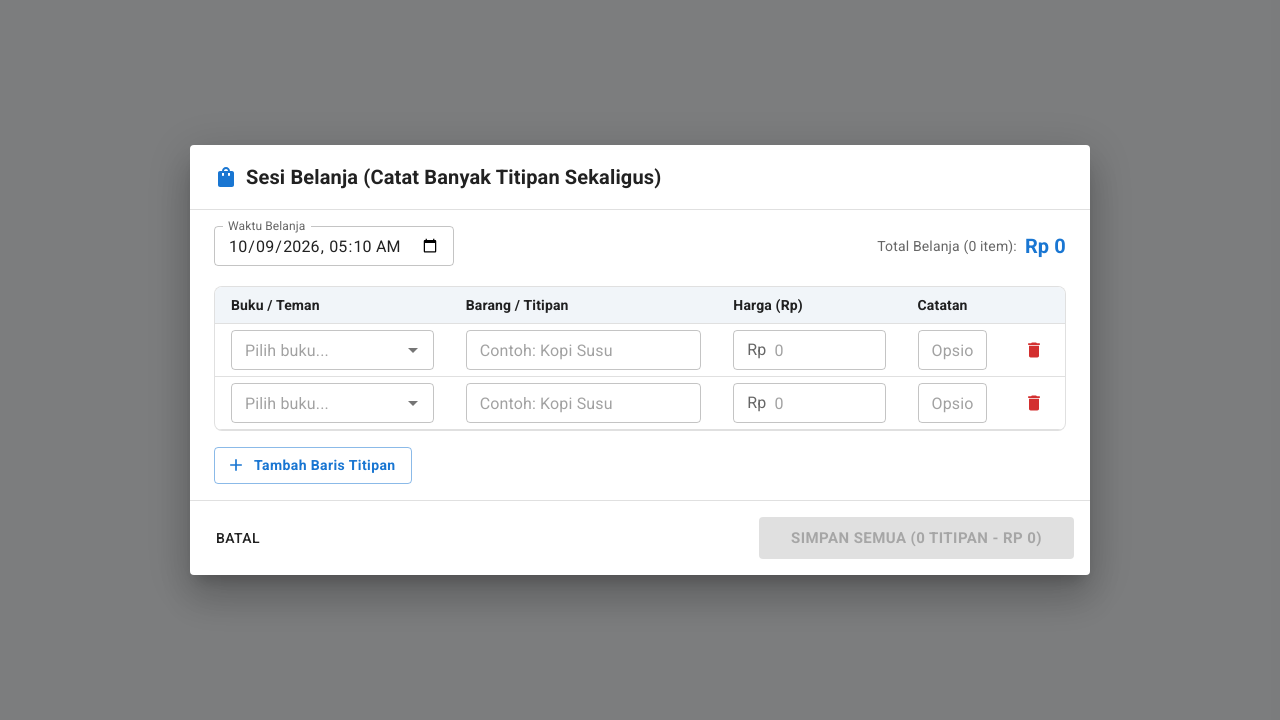
Test: Sesi Belanja (F1 Multi-row Batch Entry) › allows user to manually override amount after selecting an item suggestion
Select wallet
Type "Rendy" into the dropdown named "Buku baris 1" at (316, 350), box [237,336,395,364]
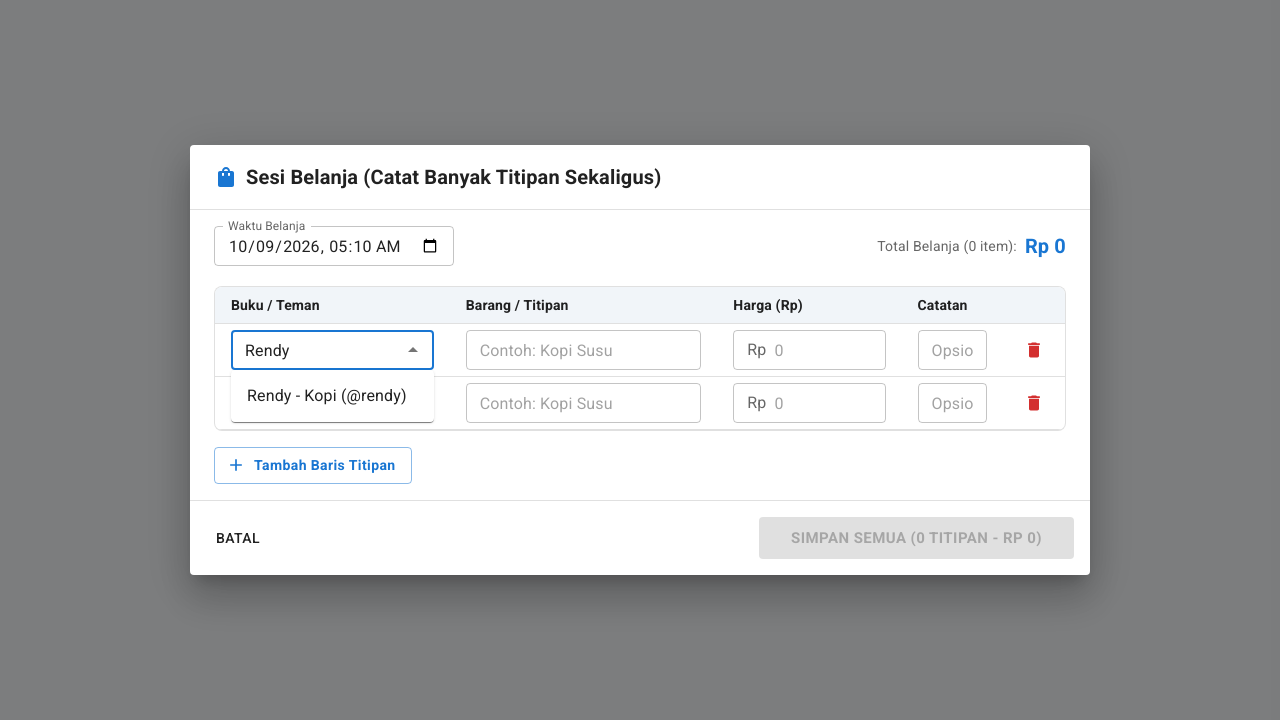
Press ArrowDown in the dropdown named "Buku baris 1", box [237,336,395,364]
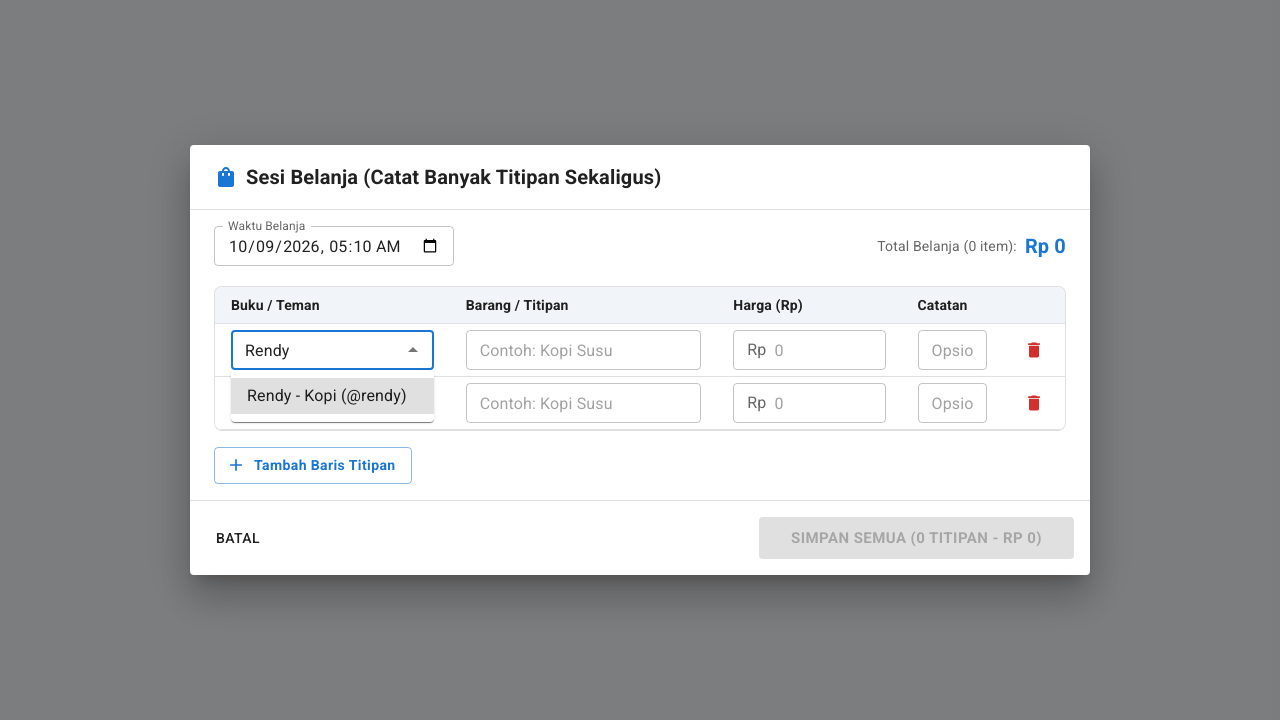
Press Enter in the dropdown named "Buku baris 1", box [237,336,395,364]
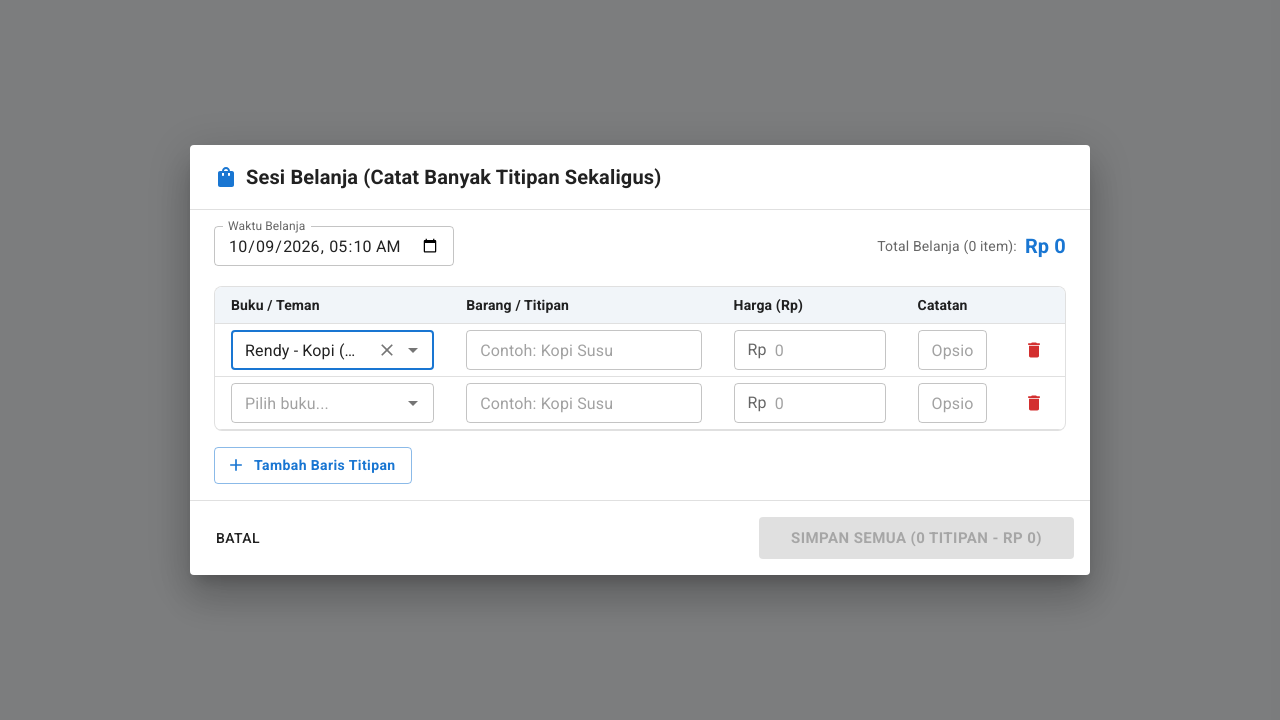
Select suggestion
Focus the dropdown named "Barang baris 1" at (567, 350), box [472,336,663,364]
Press ArrowDown in the dropdown named "Barang baris 1", box [472,336,663,364]
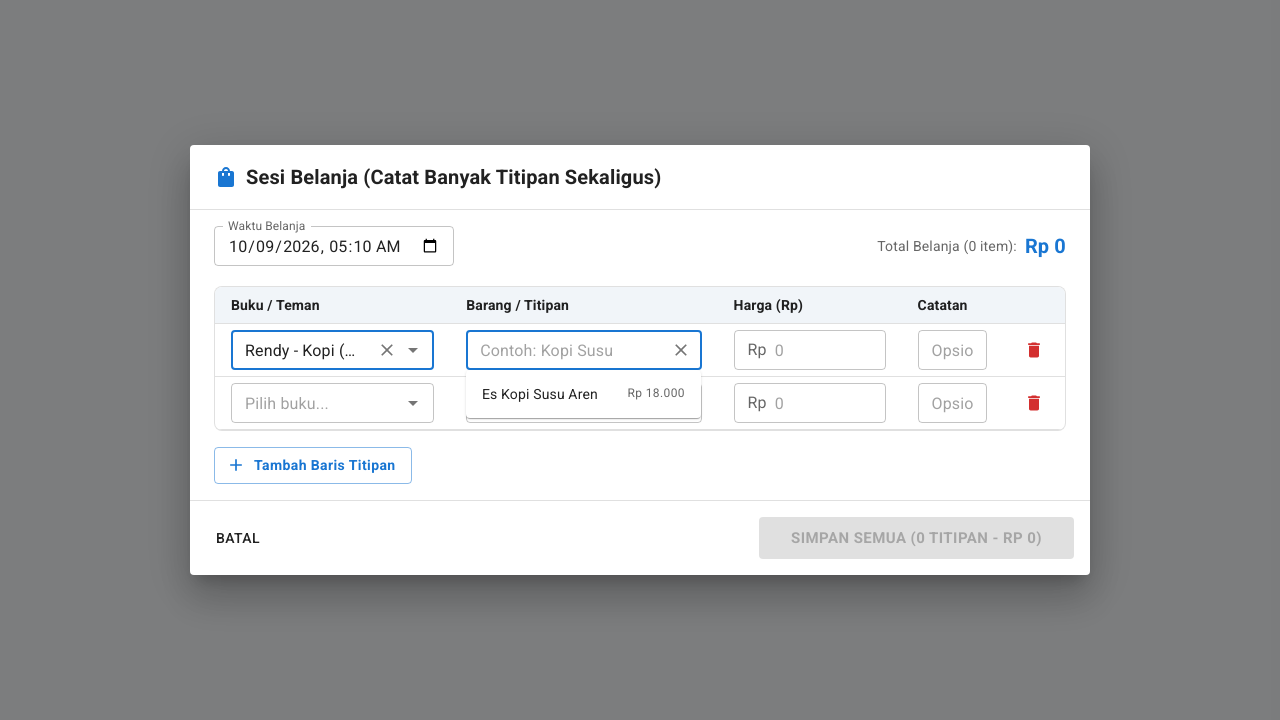
Click the text "Es Kopi Susu Aren" at (540, 394), box [482,384,598,404]
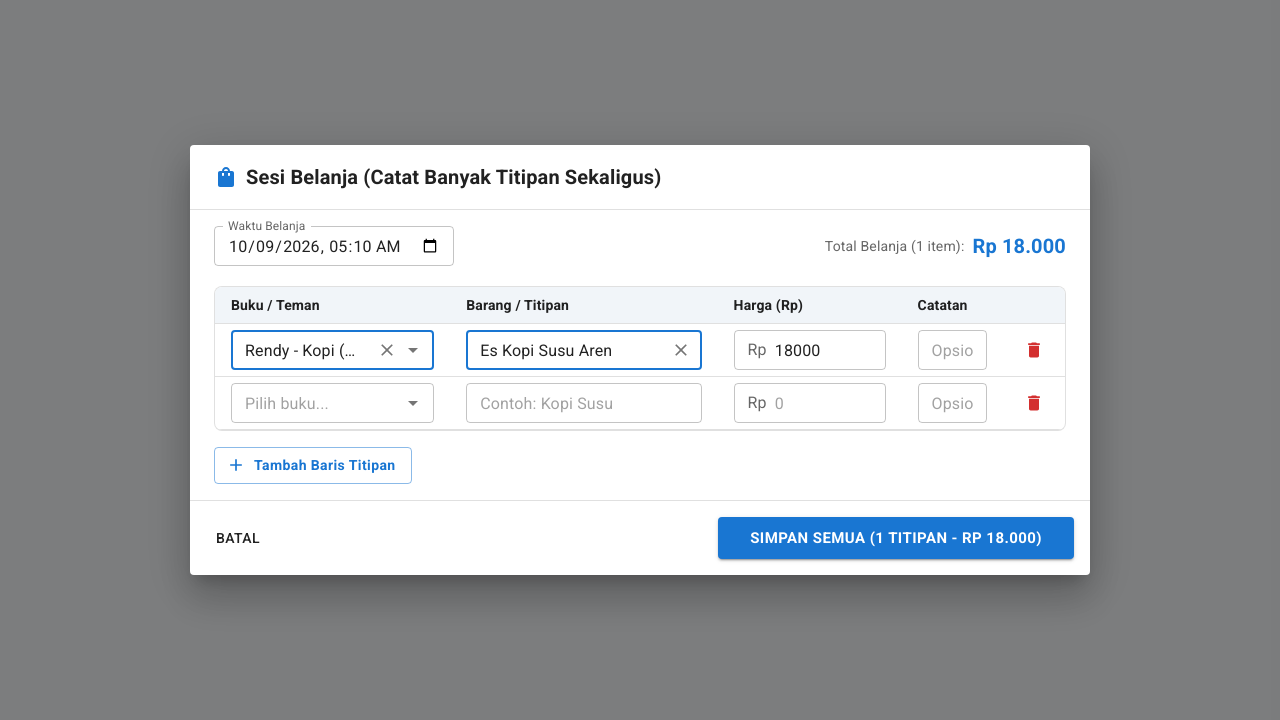
Expected: the field named "Harga baris 1" holds "18000"
Override amount manually
Replace the text in the field named "Harga baris 1" with "20000" at (830, 350), box [775,330,886,370]
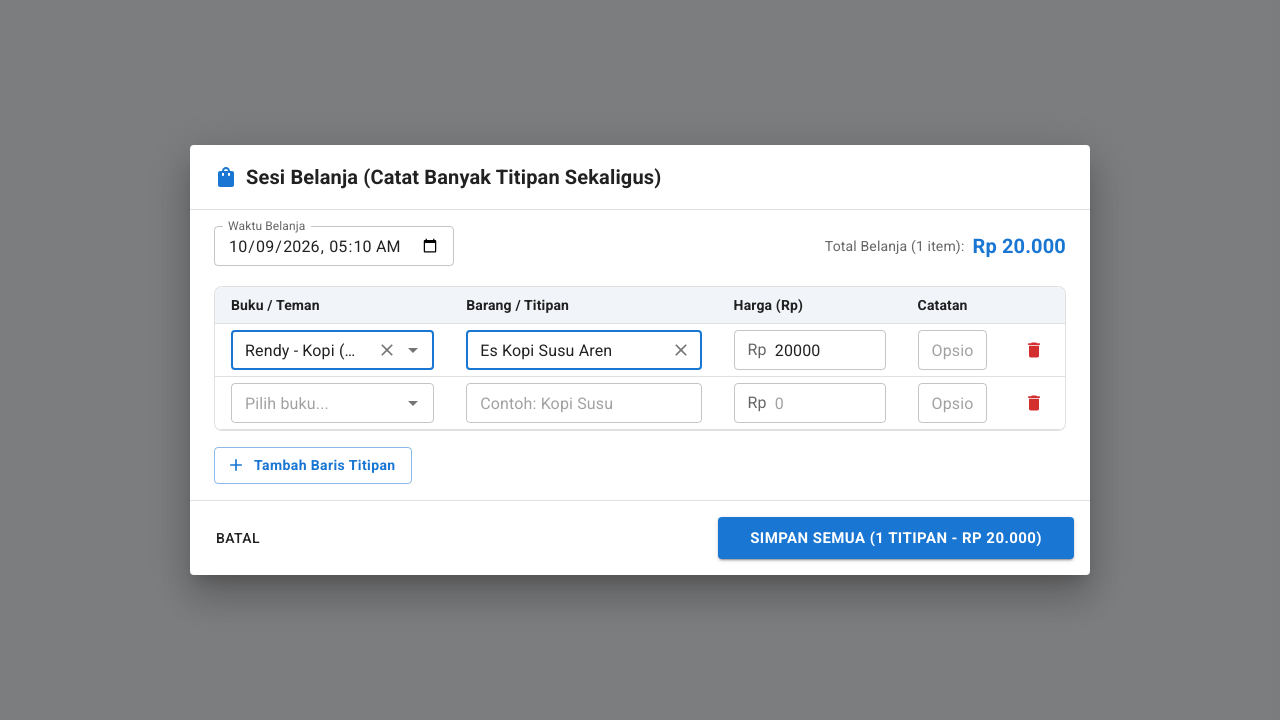
Expected: the button "Simpan Semua (1 Titipan - Rp 20.000)" is shown, [718,517,1074,559]
